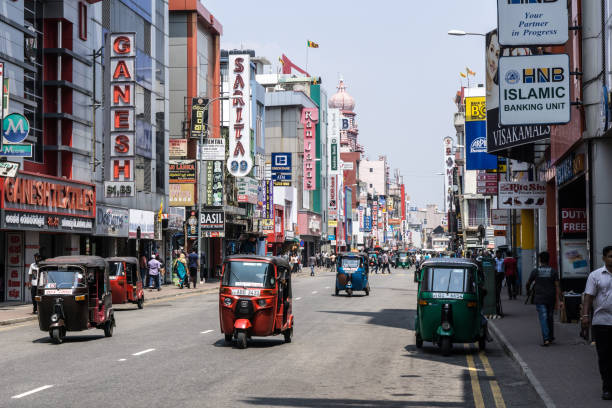threewheel: (33, 255, 116, 344), (414, 259, 488, 357), (219, 254, 295, 349), (105, 256, 144, 308), (334, 253, 371, 297)
